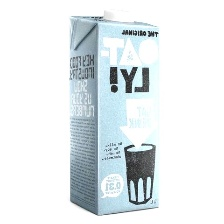carton: (63, 6, 162, 216)
